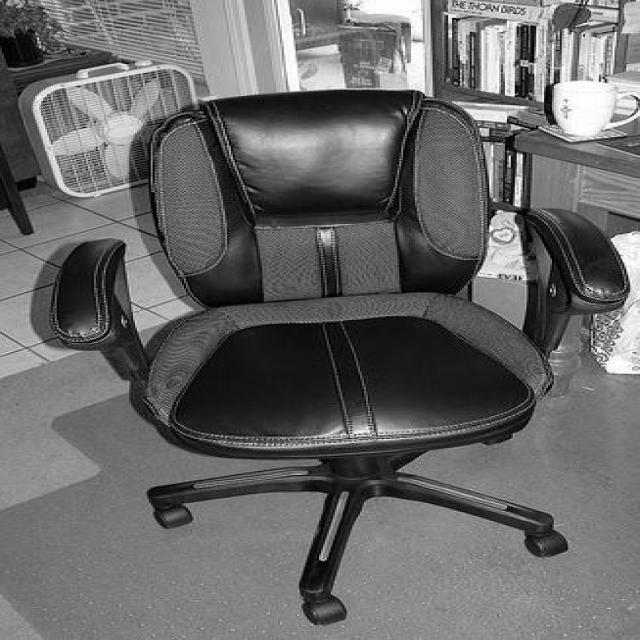chair: (51, 86, 630, 625)
